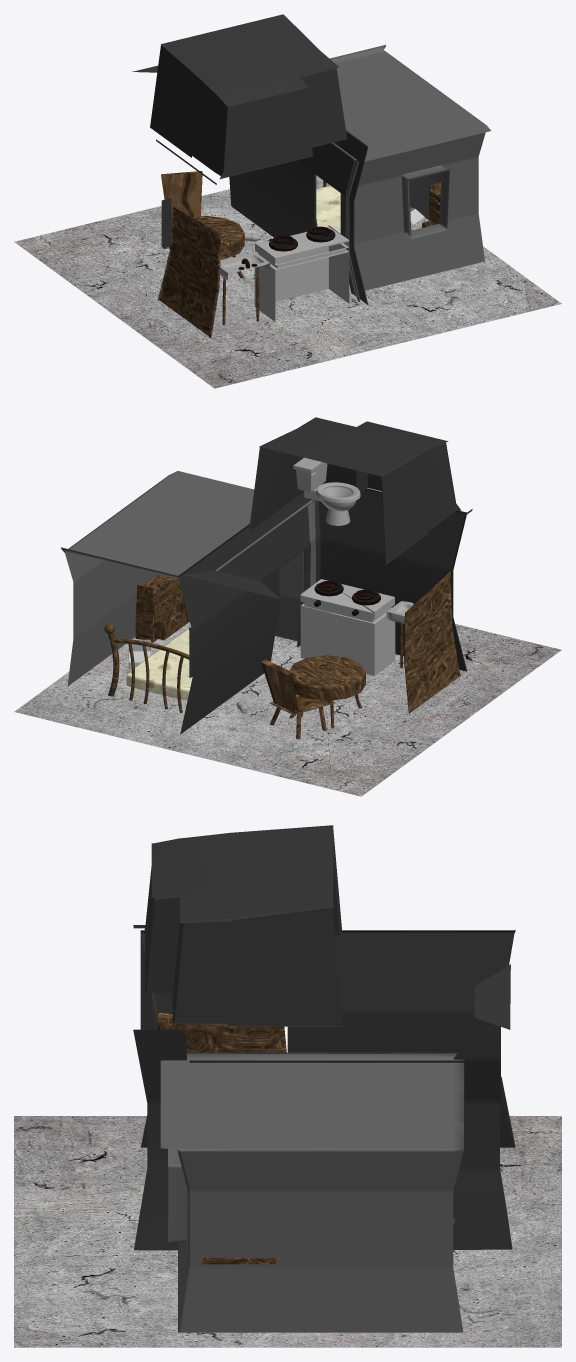
File: Ahorasi.fbx
The picture shows the model from 3 angles, top to bottom: view 1: azimuth 30°, elevation 25°; view 2: azimuth 150°, elevation 25°; view 3: azimuth 270°, elevation 25°; orthographic projection. The views are drawn at different scales.
Parts seen in each view (by area): view 1: polySurface1, polySurface53, polySurface50, TallerV_Dia2_Casa_Dentro1:polySurface4, TallerV_Dia2_Casa_Dentro1:pCube1, TallerV_Dia2_Casa_Dentro1:polySurface1, Puertas, lavabo_feo:polySurface1, polySurface39, TallerV_Dia2_Casa_Dentro1:polySurface2; view 2: polySurface1, TallerV_Dia2_Casa_Dentro1:polySurface4, polySurface53, polySurface50, Puertas, TallerV_Dia2_Casa_Dentro1:polySurface1, TallerV_Dia2_Casa_Dentro1:pCube1, polySurface39, TallerV_Dia2_Escusado_M3D__1_:escusado:escusado:polySurface4, TallerV_Dia2_Casa_Dentro1:polySurface2, lavabo_feo:polySurface1; view 3: polySurface53, polySurface1, TallerV_Dia2_Casa_Dentro1:polySurface4, polySurface50, TallerV_Dia2_Casa_Dentro1:pCube1.
Part boxes in pixels (left/top/right/bottom): polySurface1: left=14, top=175, right=561, bottom=388; polySurface53: left=329, top=45, right=491, bottom=301; polySurface50: left=150, top=14, right=347, bottom=179; TallerV_Dia2_Casa_Dentro1:polySurface4: left=132, top=65, right=368, bottom=304; TallerV_Dia2_Casa_Dentro1:pCube1: left=157, top=207, right=220, bottom=337; TallerV_Dia2_Casa_Dentro1:polySurface1: left=254, top=225, right=349, bottom=321; Puertas: left=161, top=171, right=440, bottom=278; lavabo_feo:polySurface1: left=220, top=252, right=270, bottom=325; polySurface39: left=316, top=186, right=340, bottom=233; TallerV_Dia2_Casa_Dentro1:polySurface2: left=268, top=226, right=335, bottom=251; polySurface1: left=14, top=622, right=561, bottom=796; TallerV_Dia2_Casa_Dentro1:polySurface4: left=178, top=488, right=472, bottom=771; polySurface53: left=61, top=471, right=315, bottom=686; polySurface50: left=249, top=417, right=461, bottom=564; Puertas: left=104, top=574, right=365, bottom=739; TallerV_Dia2_Casa_Dentro1:polySurface1: left=300, top=579, right=395, bottom=675; TallerV_Dia2_Casa_Dentro1:pCube1: left=404, top=571, right=460, bottom=714; polySurface39: left=126, top=629, right=192, bottom=700; TallerV_Dia2_Escusado_M3D__1_:escusado:escusado:polySurface4: left=293, top=457, right=360, bottom=525; TallerV_Dia2_Casa_Dentro1:polySurface2: left=314, top=580, right=380, bottom=616; lavabo_feo:polySurface1: left=386, top=601, right=415, bottom=668; polySurface53: left=160, top=1052, right=464, bottom=1332; polySurface1: left=14, top=1116, right=561, bottom=1347; TallerV_Dia2_Casa_Dentro1:polySurface4: left=133, top=925, right=515, bottom=1250; polySurface50: left=144, top=825, right=342, bottom=1026; TallerV_Dia2_Casa_Dentro1:pCube1: left=157, top=1013, right=286, bottom=1052.
Bounding box in the file's own units: 1829 × 1275 × 1829.
